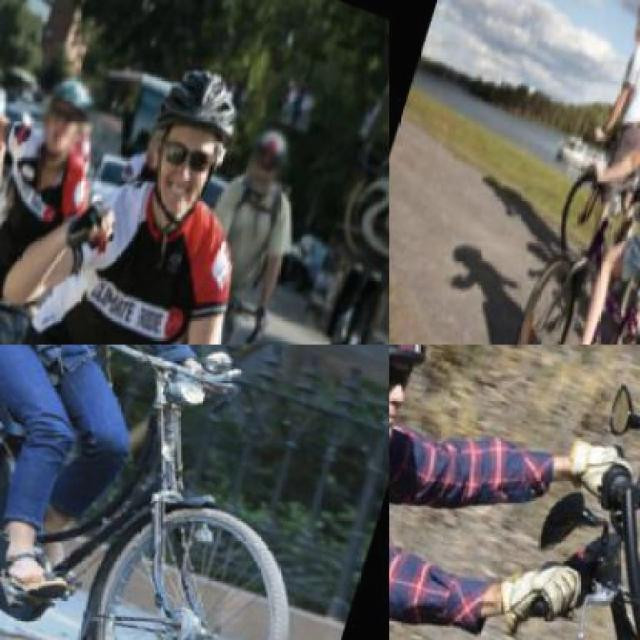With Helmet: (123, 38, 254, 239), (24, 55, 110, 173), (389, 344, 457, 468), (242, 109, 300, 194), (622, 0, 638, 54)
